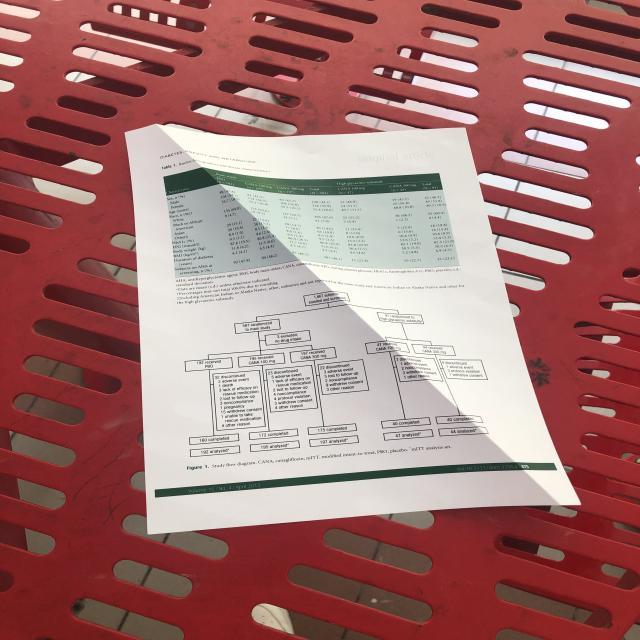kertas: (120, 98, 579, 534)
